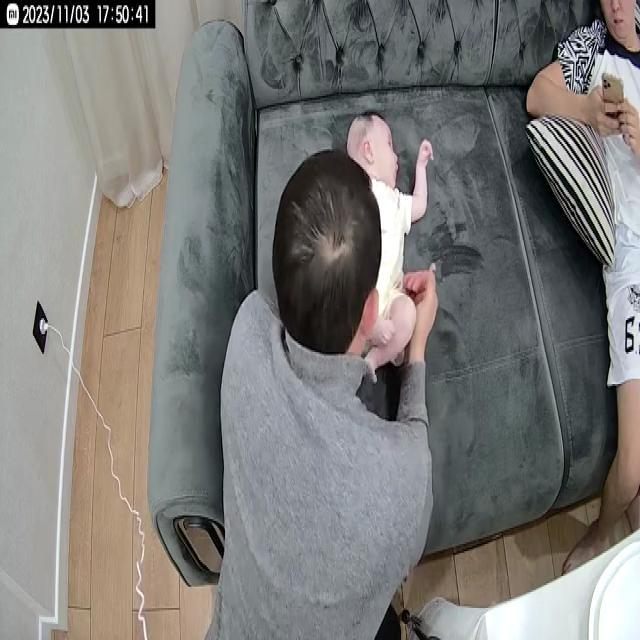baby: (337, 106, 435, 387)
